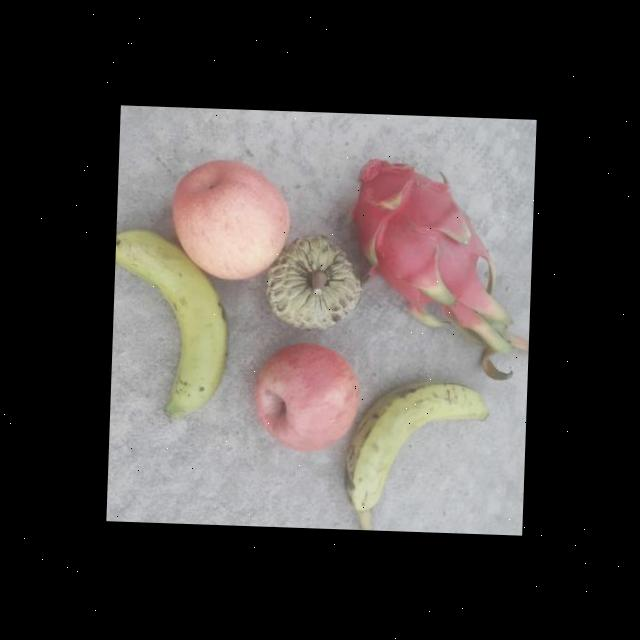Sakya fruit: (262, 228, 366, 332)
apple: (168, 155, 292, 282), (247, 340, 361, 463)
banana: (108, 228, 232, 421), (339, 376, 491, 520)
pitaya: (346, 155, 486, 310)
